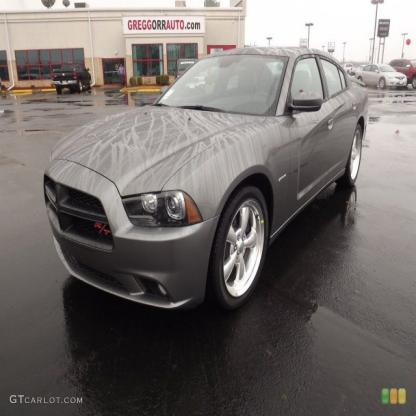Vehicle: (40, 39, 374, 327)
